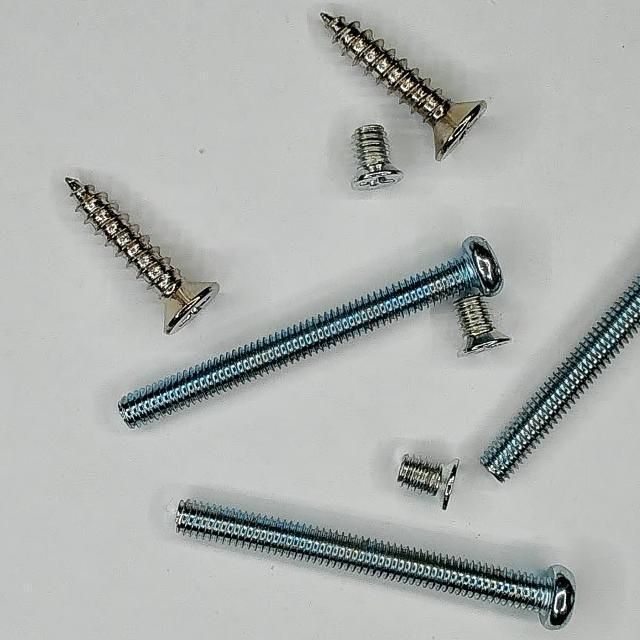Screw: (118, 237, 504, 427), (176, 501, 577, 630), (482, 275, 640, 482), (322, 12, 487, 160), (66, 178, 219, 334), (398, 455, 460, 510), (455, 295, 512, 354), (353, 124, 404, 188)
